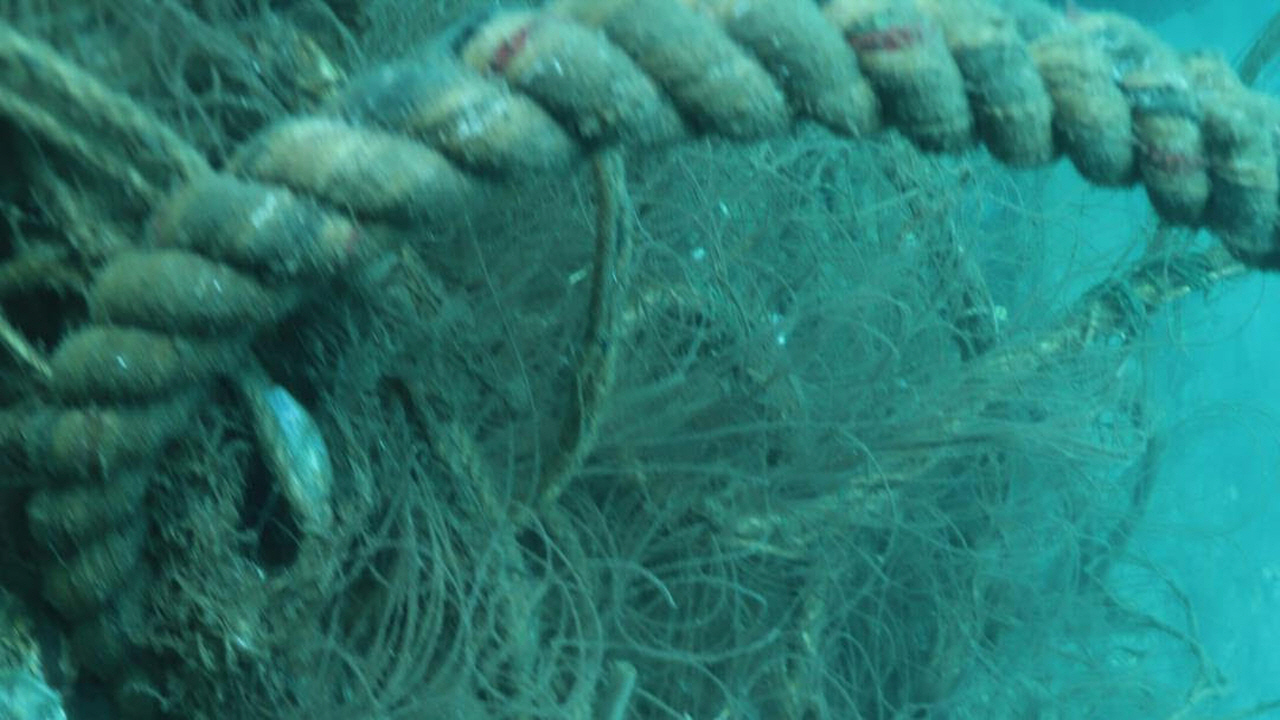rope: (20, 0, 1280, 661)
